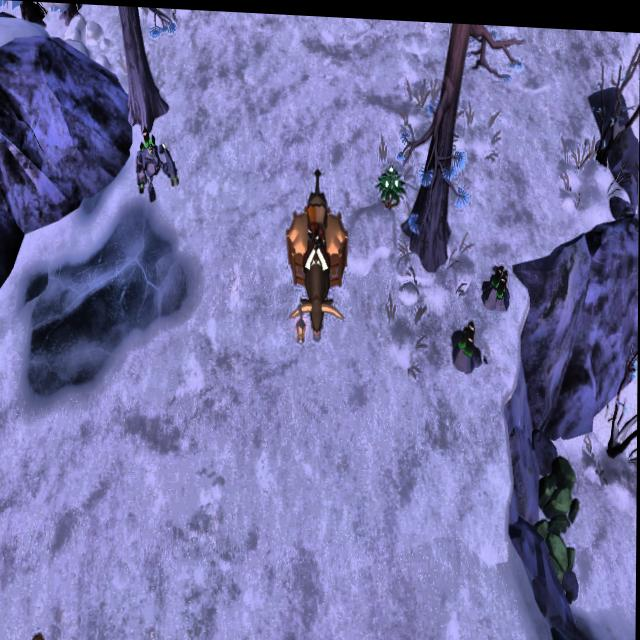fiber_t3: (375, 153, 411, 206)
ore_t3: (457, 311, 478, 356), (492, 256, 510, 293)
rock_t3: (531, 513, 583, 583), (534, 449, 582, 513)
